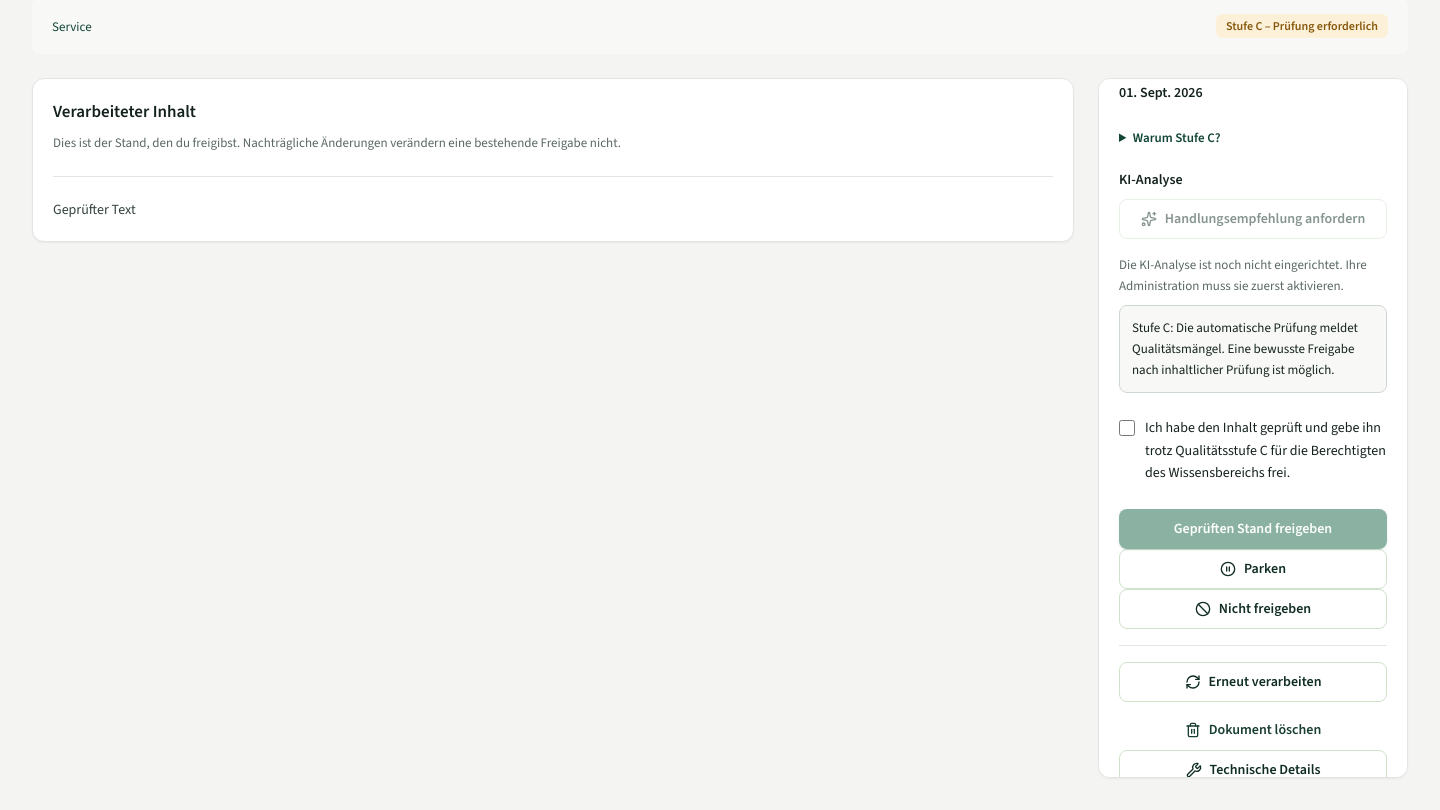
permits explicitly confirmed grade C without rewriting its quality
(page scrolled)
Expected: the button "Geprüften Stand freigeben" is disabled, [1119,508,1387,548]
Click the checkbox labelled "trotz Qualitätsstufe C" at (1127, 428), box [1119,420,1135,436]
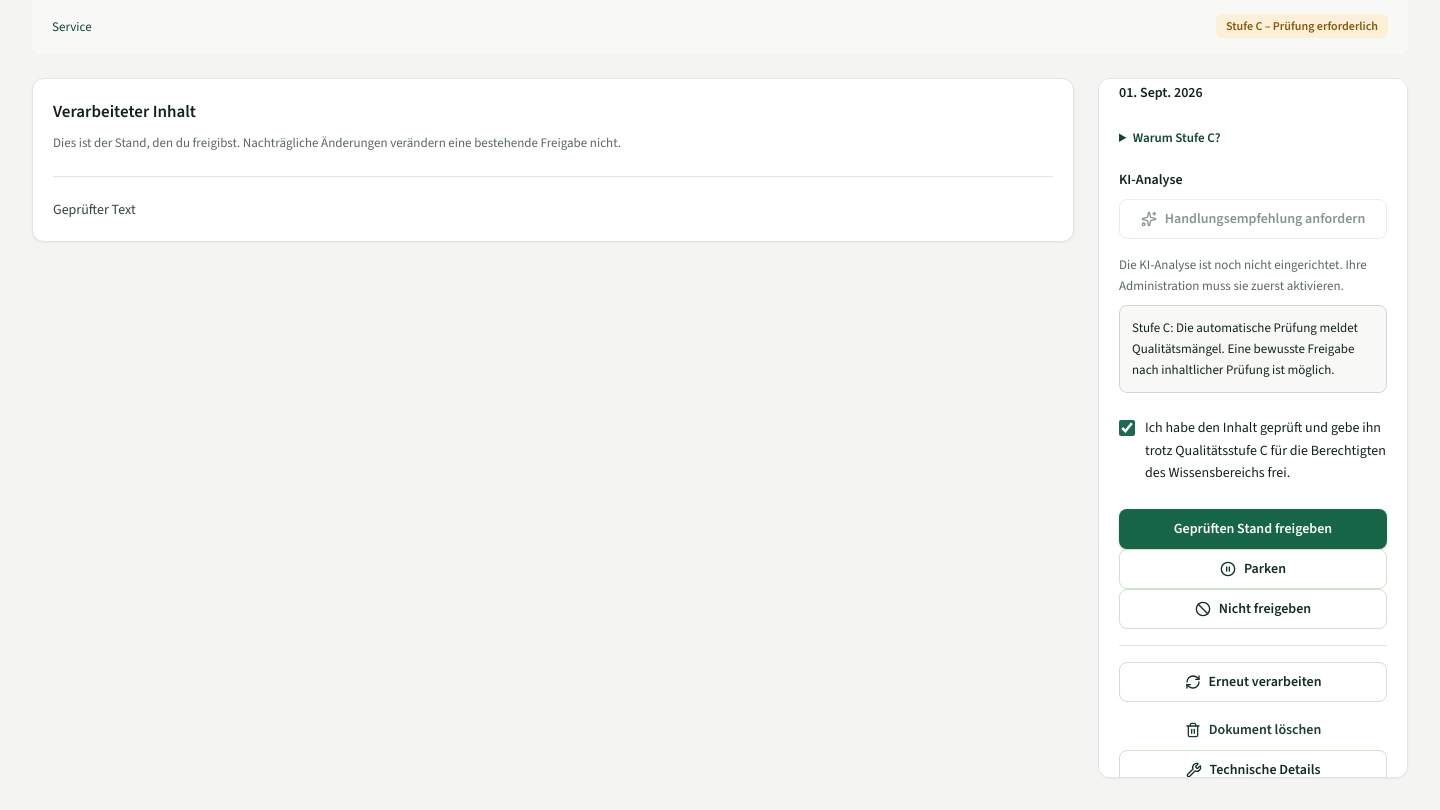
Click the button "Geprüften Stand freigeben" at (1253, 528), box [1119,508,1387,548]
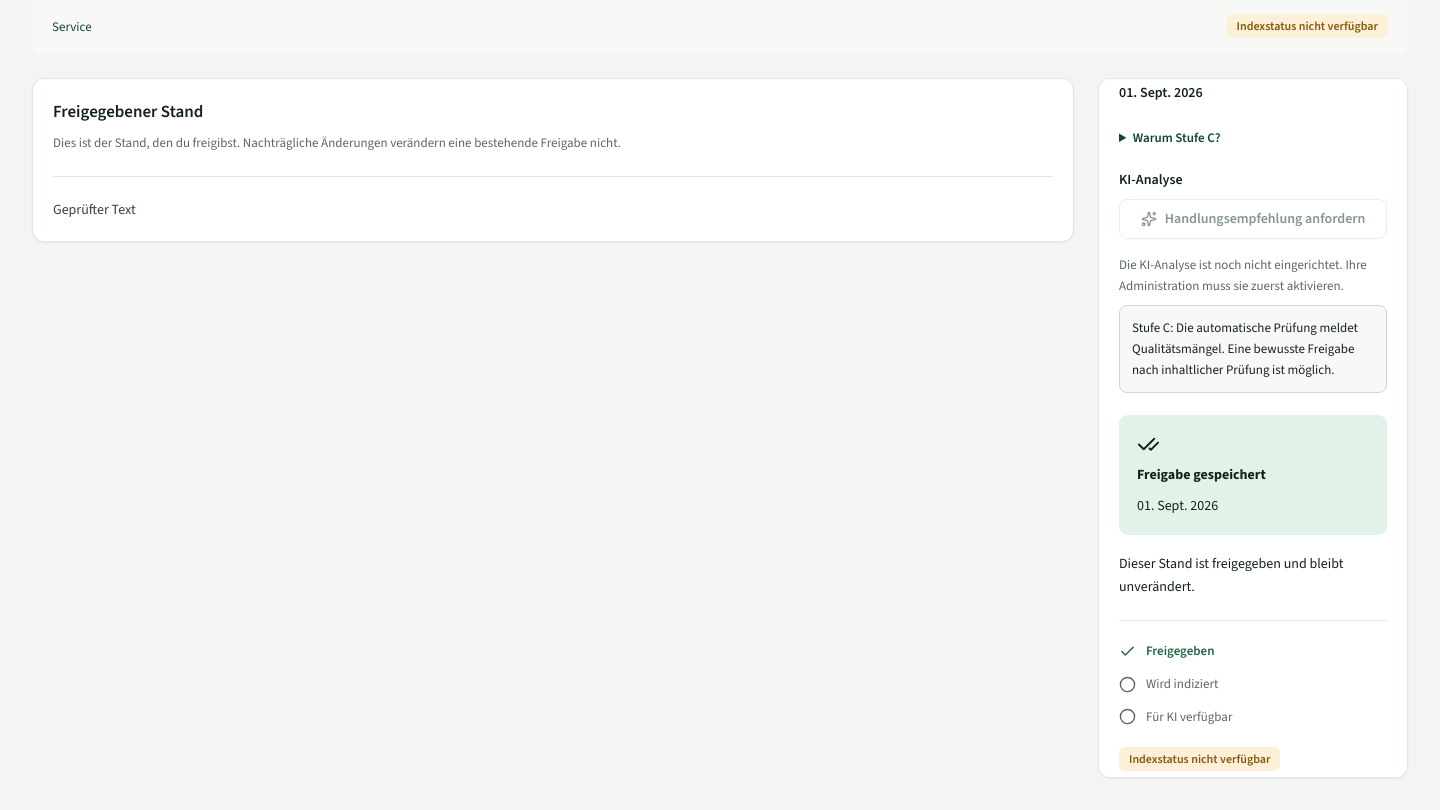
Result: the text "Freigabe gespeichert" is shown at [1137,465,1266,484]
